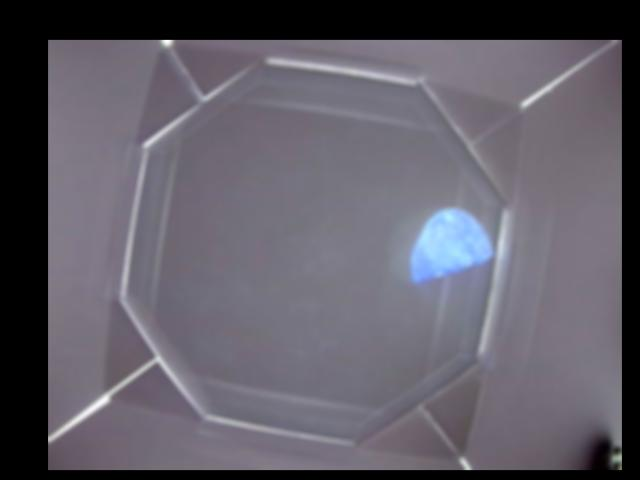Potato: (411, 210, 493, 283)
